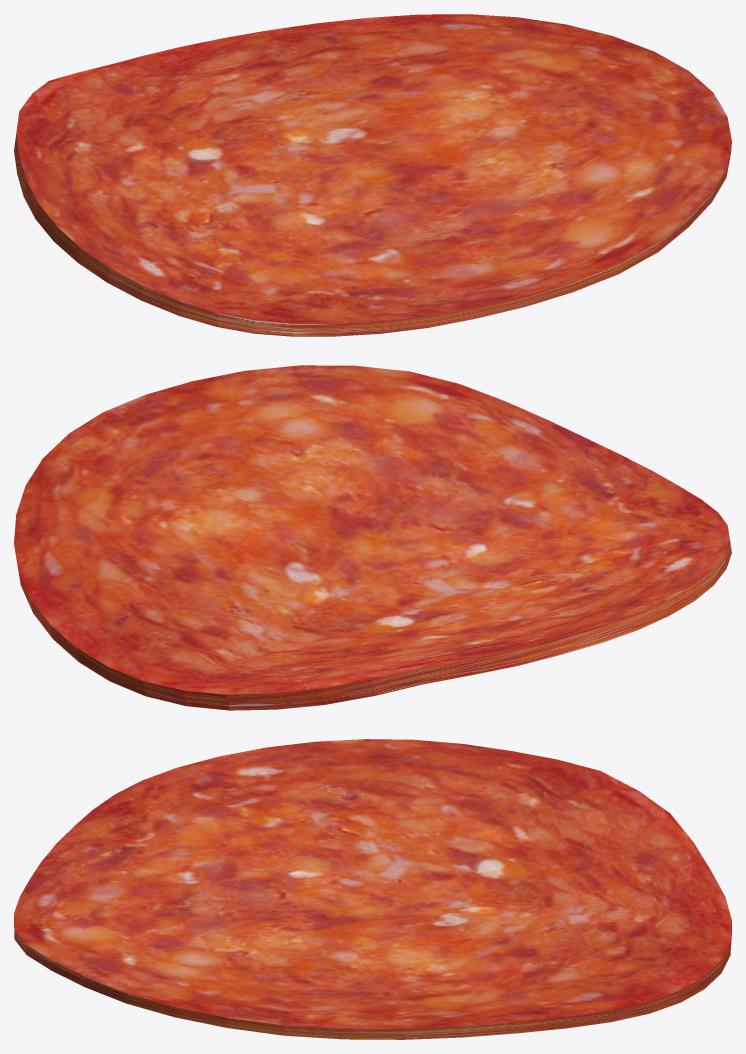
Rendered from pepperoni.fbx.
The picture shows the model from 3 angles, top to bottom: view 1: azimuth 30°, elevation 25°; view 2: azimuth 150°, elevation 25°; view 3: azimuth 270°, elevation 25°; orthographic projection. The views are drawn at different scales.
Visible parts, largest first — view 1: Cylinder; view 2: Cylinder; view 3: Cylinder.
Boxes of the visible parts, x1=… form: Cylinder: x1=14, y1=14, x2=731, y2=336; Cylinder: x1=14, y1=365, x2=731, y2=710; Cylinder: x1=14, y1=739, x2=731, y2=1039.
Bounding box in the file's own units: 207 × 19.27 × 208.
Materials: 1 (1 with a texture image).
